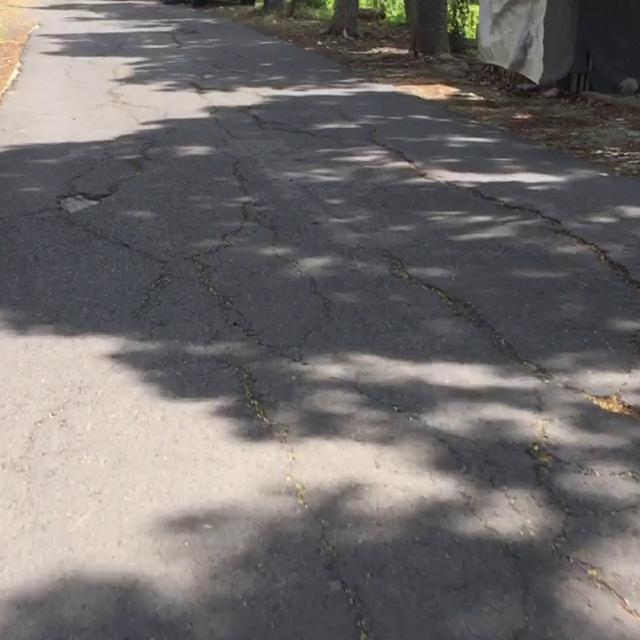retak_memanjang: (368, 135, 640, 361), (252, 404, 390, 640), (511, 368, 640, 581), (167, 130, 260, 330)
